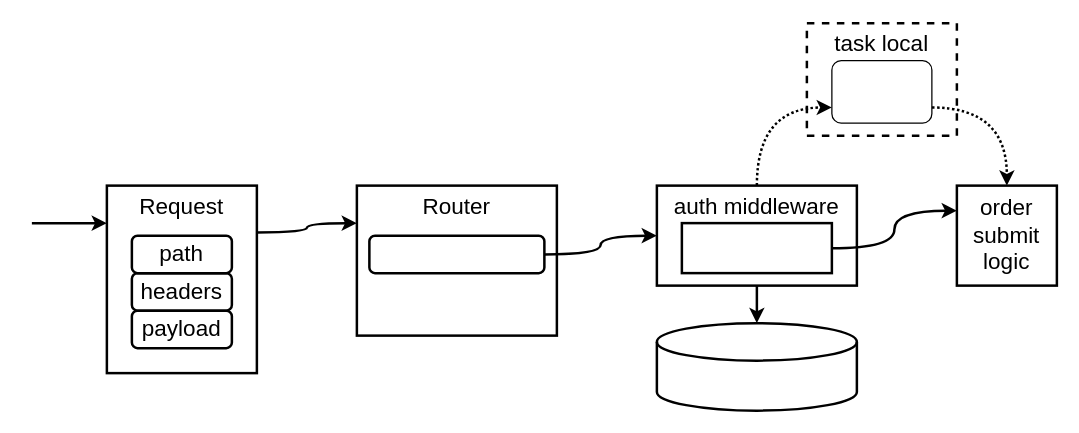
This 1079x433 diagram has some shape labels left out. Each missing label, with the centre of its shape:
"/orders/submit" goes at point 456,254.
"order submit handler" goes at point 756,247.
"Session ID -> Role" goes at point 756,366.
"User info ID, role" goes at point 881,91.
